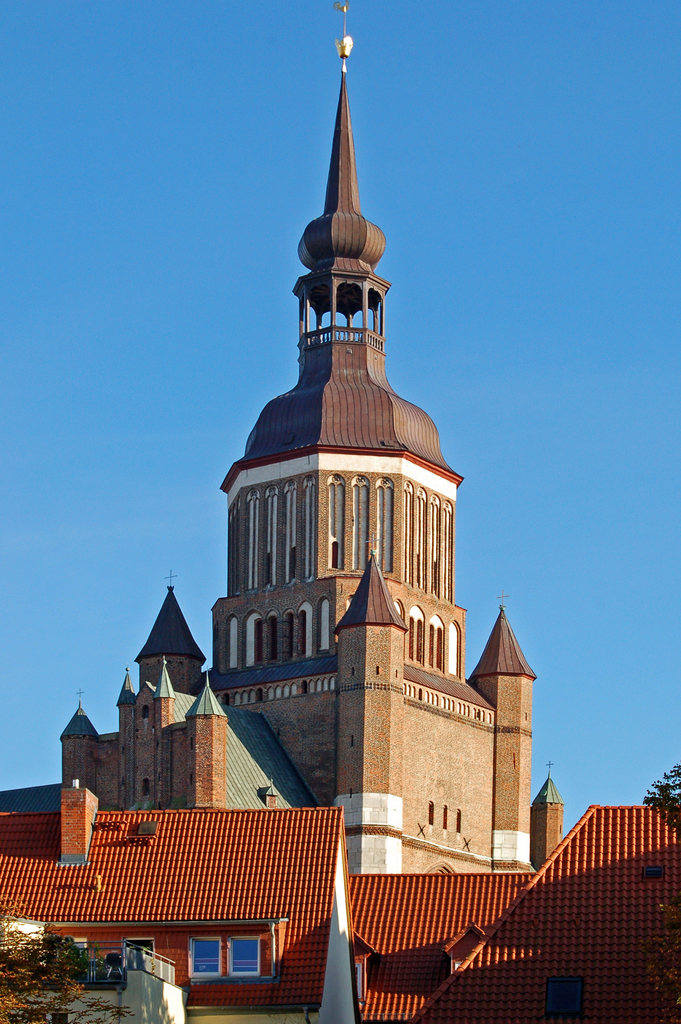Tree: (642, 750, 680, 828)
